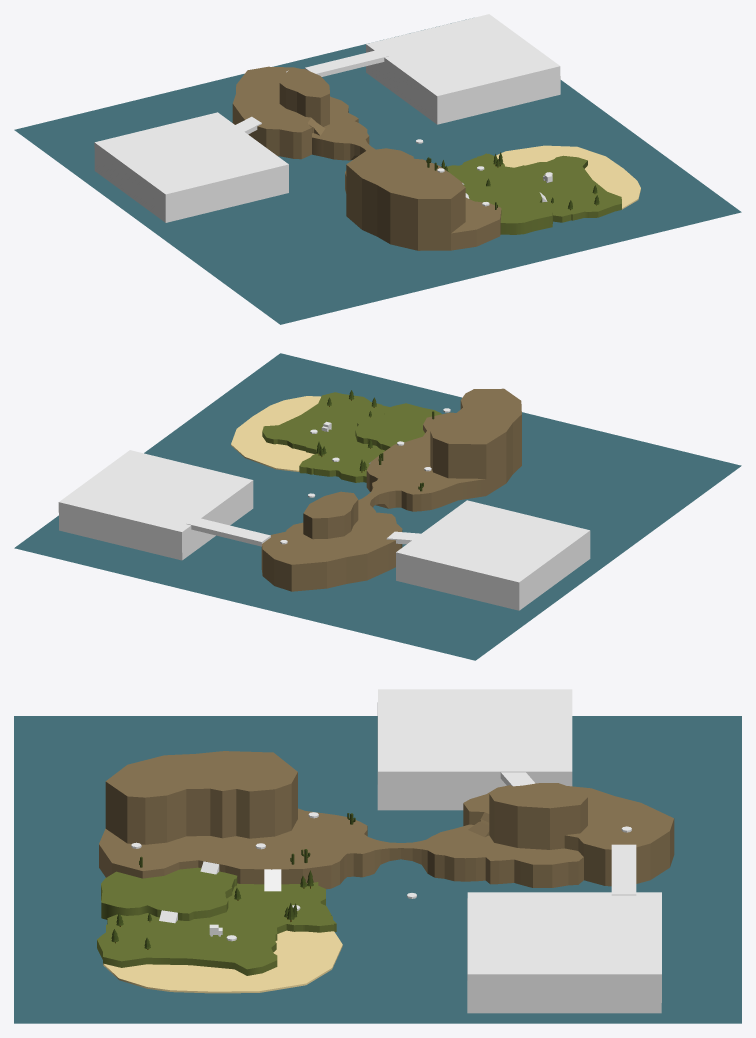
Rendered from Map2.fbx.
3 views of the same model, one above another, from view 1: azimuth 30°, elevation 25°; view 2: azimuth 150°, elevation 25°; view 3: azimuth 270°, elevation 25° (orthographic). The views are drawn at different scales.
Parts seen in each view (by area): view 1: Water, Sand_map, New_map1, New_map, Grass_map, Beach_map, New_bridge1; view 2: Water, Sand_map, New_map1, New_map, Grass_map, Beach_map, New_bridge1; view 3: Water, Sand_map, New_map, New_map1, Grass_map, Beach_map, New_bridge1.
Boxes of the visible parts, box(x1,y1,x2,y2) form: Water: box(14, 19, 741, 324); Sand_map: box(232, 66, 501, 250); New_map1: box(94, 112, 288, 222); New_map: box(366, 14, 560, 124); Grass_map: box(447, 153, 621, 234); Beach_map: box(496, 145, 640, 209); New_bridge1: box(305, 49, 388, 76); Water: box(14, 353, 741, 660); Sand_map: box(261, 388, 521, 591); New_map1: box(396, 500, 590, 610); New_map: box(58, 450, 253, 560); Grass_map: box(262, 392, 441, 482); Beach_map: box(231, 396, 320, 471); New_bridge1: box(187, 517, 270, 546); Water: box(14, 716, 741, 1023); Sand_map: box(99, 751, 674, 889); New_map: box(467, 892, 661, 1013); New_map1: box(377, 689, 572, 810); Grass_map: box(97, 867, 336, 975); Beach_map: box(103, 930, 342, 993); New_bridge1: box(611, 844, 636, 895).
Size of the model in its own units: 128 by 13.99 by 128.
